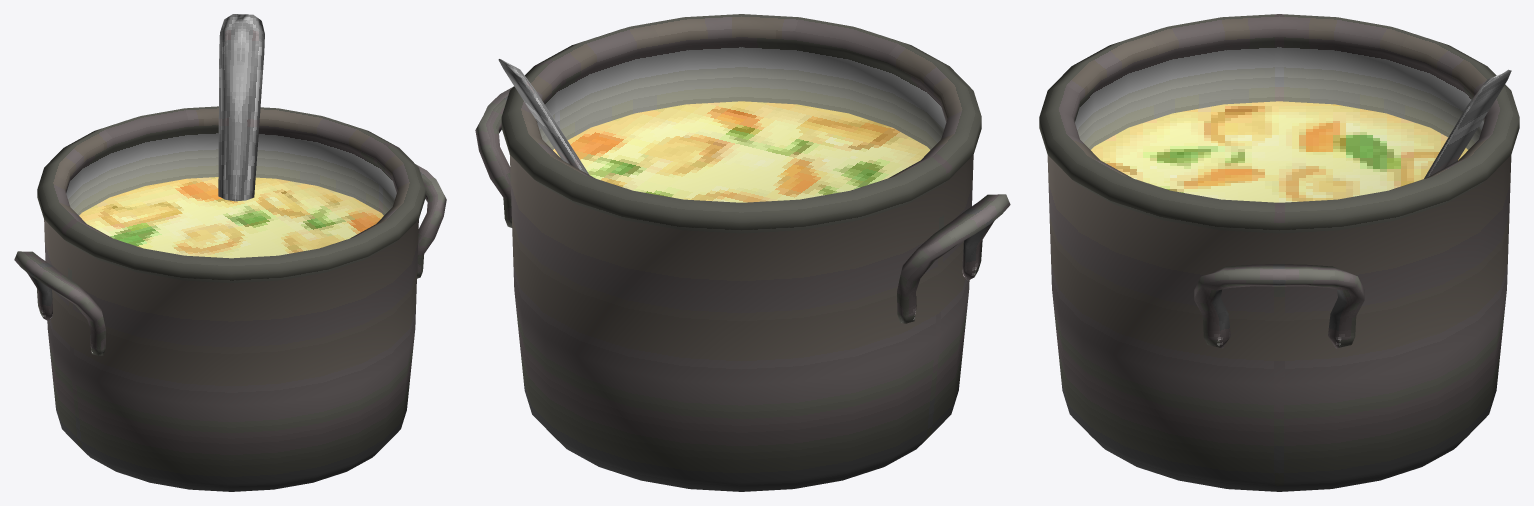
The model's file is rmk_oth_saucepan.dae.
3 views of the same model, side by side, from view 1: azimuth 30°, elevation 25°; view 2: azimuth 150°, elevation 25°; view 3: azimuth 270°, elevation 25° (orthographic). The views are drawn at different scales.
Parts seen in each view (by area): view 1: rmk_oth_saucepan; view 2: rmk_oth_saucepan; view 3: rmk_oth_saucepan.
Part boxes in pixels (x1=…): rmk_oth_saucepan: x1=14, y1=14, x2=446, y2=491; rmk_oth_saucepan: x1=475, y1=14, x2=1010, y2=491; rmk_oth_saucepan: x1=1039, y1=14, x2=1519, y2=491.
Bounding box in the file's own units: 29.17 × 22.18 × 24.51.
2 materials, 2 textured.
